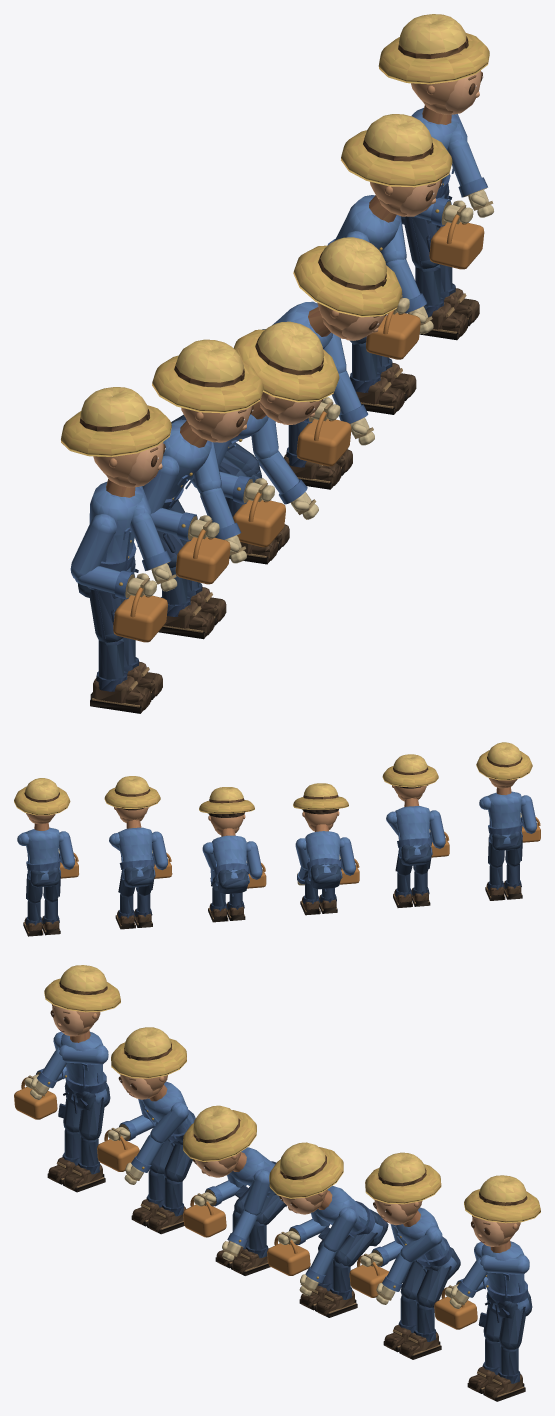
The model's file is ba-harvest-front-after.glb.
3 views of the same model, one above another, from view 1: azimuth 30°, elevation 25°; view 2: azimuth 150°, elevation 25°; view 3: azimuth 270°, elevation 25° (orthographic). The views are drawn at different scales.
Parts seen in each view (by area): view 1: strawHat (×6), harvestBasket (×6), rightShin (×5), head (×6), denimJacketTorso (×5), leftLowerArm (×6), leftShin (×4), rightUpperArm (×2), rightThigh (×2), rightLowerArm (×2), leftUpperArm (×2); view 2: denimJacketTorso (×6), strawHat (×6), trouserHips (×6), leftShin (×6), rightShin (×6), rightUpperArm (×6), head (×4), leftThigh (×2), rightThigh (×2), leftUpperArm (×2); view 3: strawHat (×6), denimJacketTorso (×6), leftShin (×6), harvestBasket (×6), head (×6), leftUpperArm (×6), leftThigh (×6), rightShin (×5), leftLowerArm (×6), rightThigh (×3), trouserHips (×2).
Part boxes in pixels (left/top/right/bottom): strawHat (×6): left=61, top=14, right=489, bottom=456; harvestBasket (×6): left=113, top=222, right=484, bottom=642; rightShin (×5): left=90, top=264, right=467, bottom=713; head (×6): left=93, top=70, right=483, bottom=487; denimJacketTorso (×5): left=87, top=105, right=459, bottom=592; leftLowerArm (×6): left=130, top=138, right=487, bottom=570; leftShin (×4): left=123, top=264, right=479, bottom=699; rightUpperArm (×2): left=70, top=455, right=179, bottom=579; rightThigh (×2): left=89, top=216, right=439, bottom=642; rightLowerArm (×2): left=75, top=508, right=197, bottom=599; leftUpperArm (×2): left=194, top=417, right=278, bottom=493; denimJacketTorso (×6): left=26, top=787, right=522, bottom=885; strawHat (×6): left=14, top=742, right=532, bottom=815; trouserHips (×6): left=29, top=831, right=521, bottom=897; leftShin (×6): left=23, top=865, right=505, bottom=936; rightShin (×6): left=42, top=864, right=522, bottom=935; rightUpperArm (×6): left=59, top=795, right=537, bottom=878; head (×4): left=114, top=785, right=428, bottom=834; leftThigh (×2): left=26, top=837, right=504, bottom=903; rightThigh (×2): left=43, top=835, right=522, bottom=902; leftUpperArm (×2): left=202, top=838, right=308, bottom=870; strawHat (×6): left=44, top=965, right=540, bottom=1223; denimJacketTorso (×6): left=60, top=1030, right=529, bottom=1311; leftShin (×6): left=63, top=1137, right=525, bottom=1401; harvestBasket (×6): left=14, top=1087, right=477, bottom=1329; head (×6): left=50, top=1004, right=520, bottom=1246; leftUpperArm (×6): left=59, top=1044, right=529, bottom=1274; leftThigh (×6): left=79, top=1097, right=526, bottom=1349; rightShin (×5): left=47, top=1129, right=500, bottom=1393; leftLowerArm (×6): left=37, top=1048, right=487, bottom=1297; rightThigh (×3): left=58, top=1098, right=502, bottom=1341; trouserHips (×2): left=63, top=1082, right=532, bottom=1322.
Size of what is drawn, in the model's own units: 6.01 by 2.4 by 5.48.
